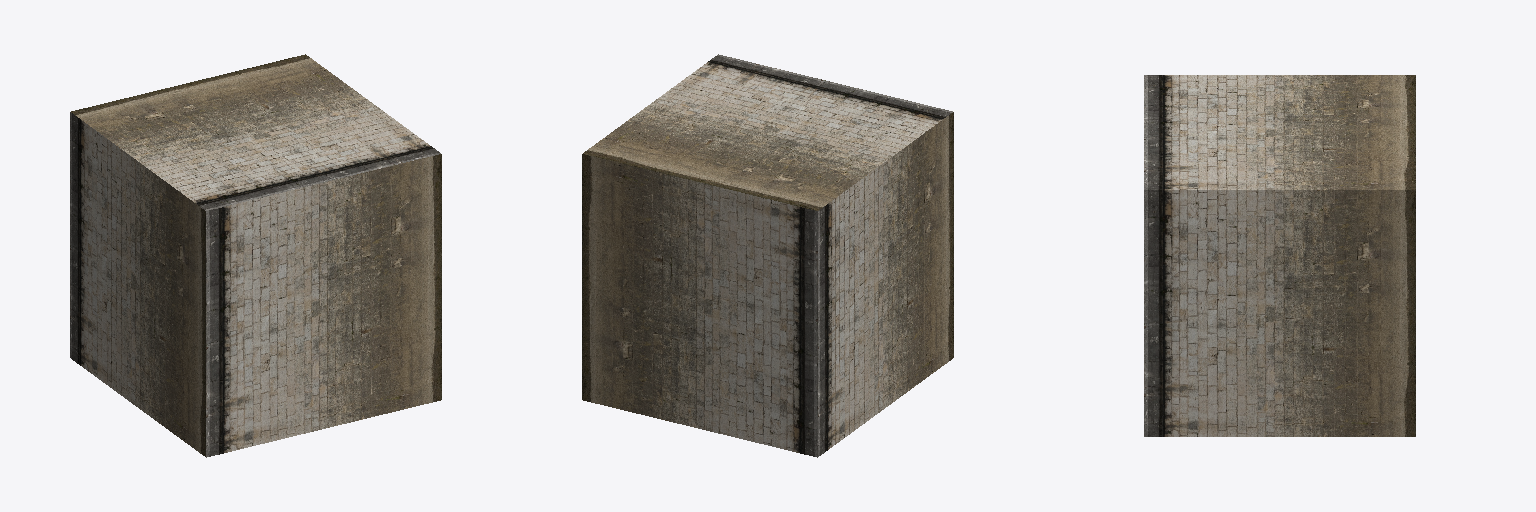
The picture shows the model from 3 angles: view 1: azimuth 30°, elevation 25°; view 2: azimuth 150°, elevation 25°; view 3: azimuth 270°, elevation 25°; orthographic projection.
Visible parts, largest first — view 1: Cube; view 2: Cube; view 3: Cube.
Boxes of the visible parts, box(x1,y1,x2,y2) form: Cube: box(70, 54, 441, 457); Cube: box(582, 54, 953, 457); Cube: box(1144, 75, 1415, 436).
Bounding box in the file's own units: 2 × 2 × 2.
1 materials, 1 textured.